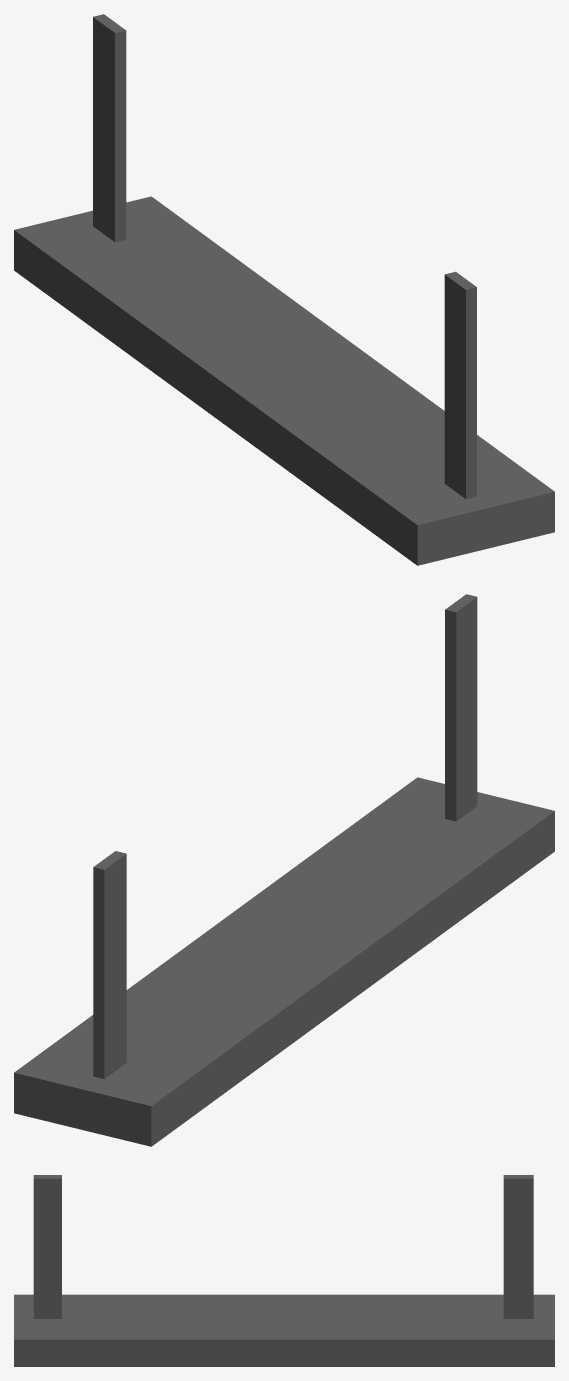
The model's file is OverheadLight.fbx.
3 views of the same model, one above another, from view 1: azimuth 30°, elevation 25°; view 2: azimuth 150°, elevation 25°; view 3: azimuth 270°, elevation 25° (orthographic). The views are drawn at different scales.
Parts seen in each view (by area): view 1: pCube1; view 2: pCube1; view 3: pCube1.
Part boxes in pixels (x1,y1,x2,y2): pCube1: (14,14,554,565); pCube1: (14,594,554,1146); pCube1: (14,1175,554,1366).
Size of the model in its own units: 3.54 by 6.16 by 18.01.
1 material, 1 textured.
